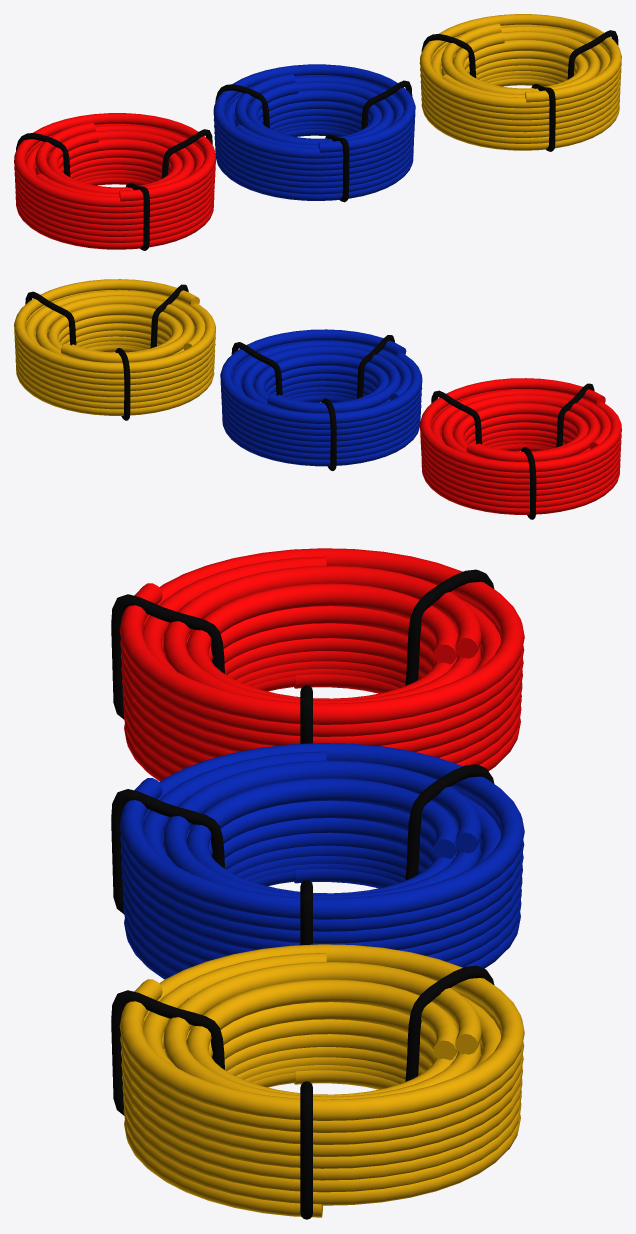
Rendered from KABLO-TOPLARI.fbx.
The picture shows the model from 3 angles, top to bottom: view 1: azimuth 30°, elevation 25°; view 2: azimuth 150°, elevation 25°; view 3: azimuth 270°, elevation 25°; orthographic projection. The views are drawn at different scales.
Visible parts, largest first — view 1: Helix009, Helix001, Helix005; view 2: Helix009, Helix005, Helix001; view 3: Helix009, Helix005, Helix001.
Boxes of the visible parts, left/top/right/bottom form: Helix009: left=419, top=14, right=621, bottom=151; Helix001: left=14, top=113, right=216, bottom=250; Helix005: left=213, top=64, right=415, bottom=202; Helix009: left=14, top=279, right=215, bottom=420; Helix005: left=220, top=329, right=422, bottom=470; Helix001: left=420, top=378, right=621, bottom=519; Helix009: left=111, top=944, right=524, bottom=1219; Helix005: left=111, top=743, right=524, bottom=979; Helix001: left=111, top=548, right=524, bottom=781.
Bounding box in the file's own units: 104 × 11.19 × 31.7.
